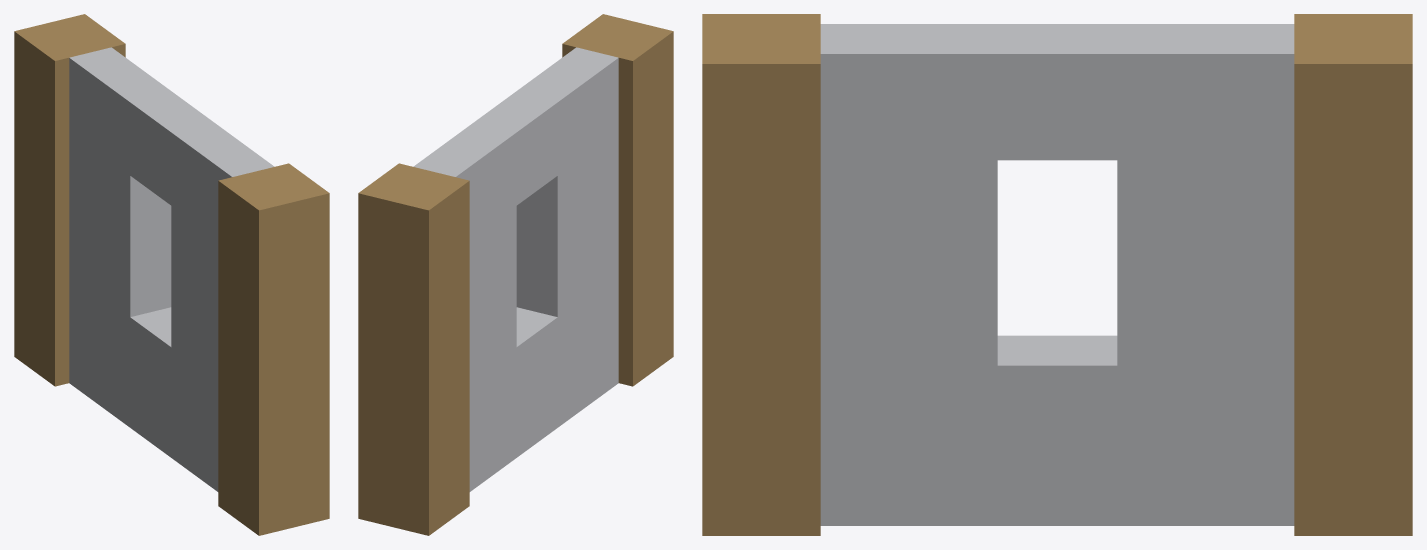
File: Wood_Window_Square_01.obj
3 renders of one model, left to right at view 1: azimuth 30°, elevation 25°; view 2: azimuth 150°, elevation 25°; view 3: azimuth 270°, elevation 25°, orthographic. The views are drawn at different scales.
Visible parts, largest first — view 1: Mesh1_Wood_Window_Square_Model; view 2: Mesh1_Wood_Window_Square_Model; view 3: Mesh1_Wood_Window_Square_Model.
Part boxes in pixels (x1=…): Mesh1_Wood_Window_Square_Model: x1=14, y1=14, x2=329, y2=535; Mesh1_Wood_Window_Square_Model: x1=358, y1=14, x2=673, y2=535; Mesh1_Wood_Window_Square_Model: x1=702, y1=14, x2=1412, y2=535.
Size of the model in its own units: 0.5 by 2.2 by 3.
